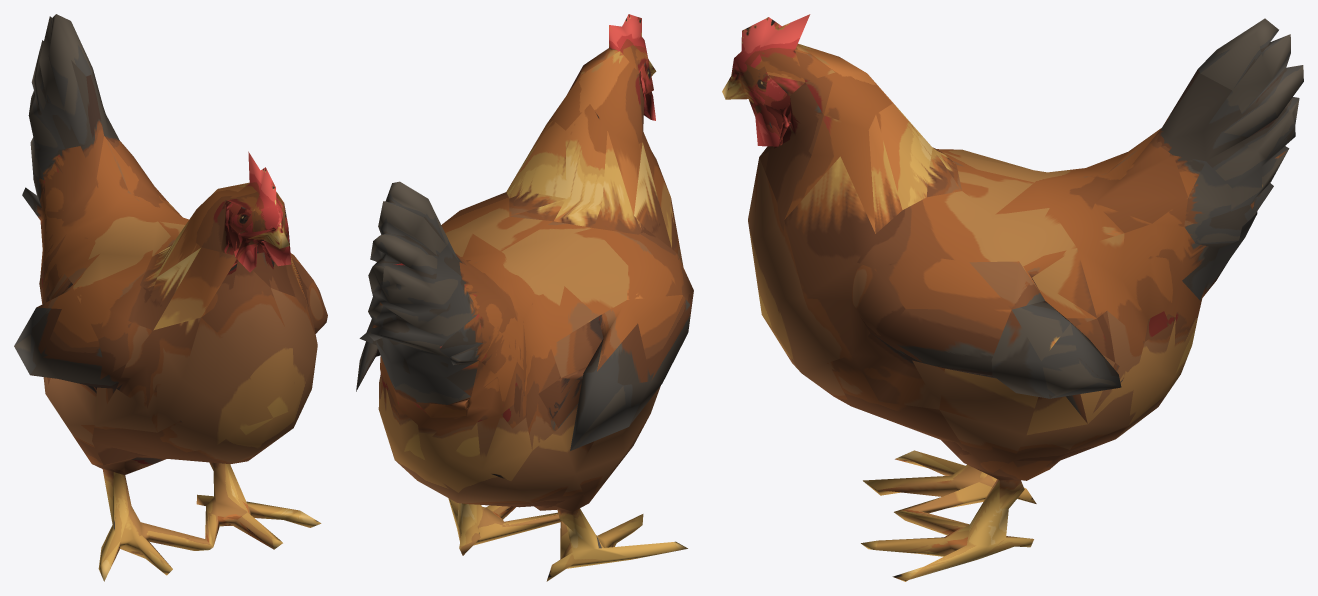
The model's file is chicken.fbx.
3 renders of one model, left to right at view 1: azimuth 30°, elevation 25°; view 2: azimuth 150°, elevation 25°; view 3: azimuth 270°, elevation 25°, orthographic. The views are drawn at different scales.
Visible parts, largest first — view 1: Mesh_0; view 2: Mesh_0; view 3: Mesh_0.
Part boxes in pixels (bbox=[...]): Mesh_0: bbox=[14, 14, 327, 581]; Mesh_0: bbox=[356, 14, 693, 581]; Mesh_0: bbox=[722, 14, 1303, 581].
Bounding box in the file's own units: 27.83 × 46.82 × 48.2.
Materials: 1 (1 with a texture image).
